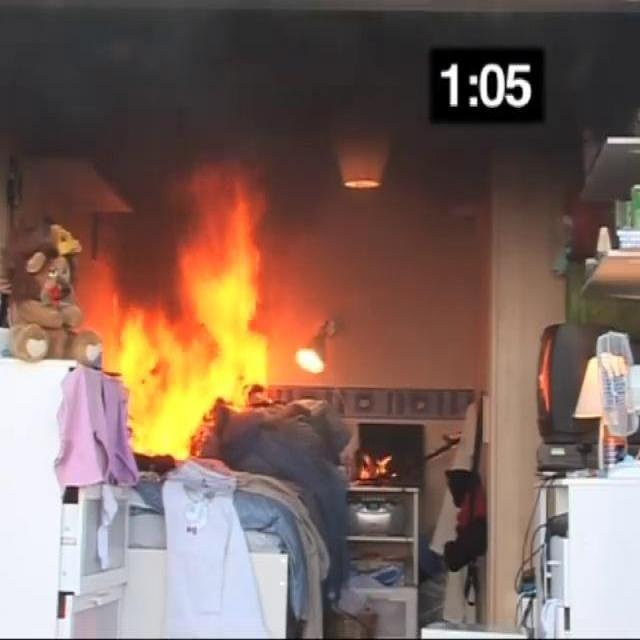fire: (108, 167, 278, 472)
smoke: (18, 16, 402, 158)
